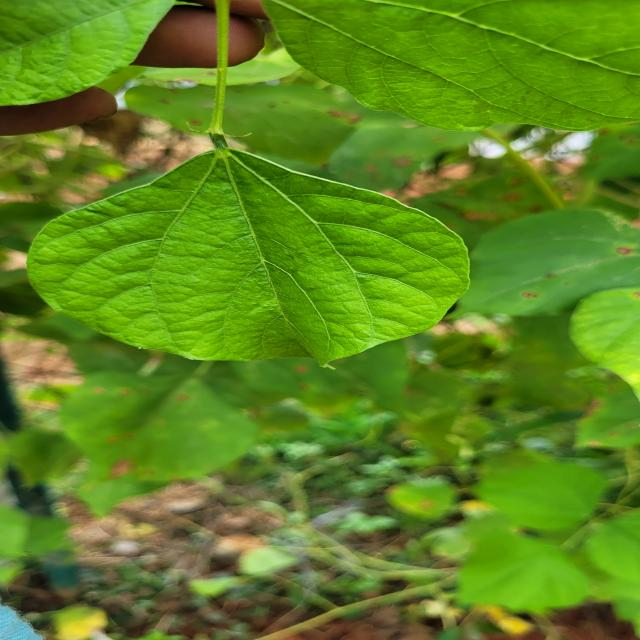Dolicos bean_healthy: (34, 153, 477, 361), (237, 0, 640, 141), (452, 527, 592, 613), (478, 452, 614, 536), (568, 279, 640, 376)
